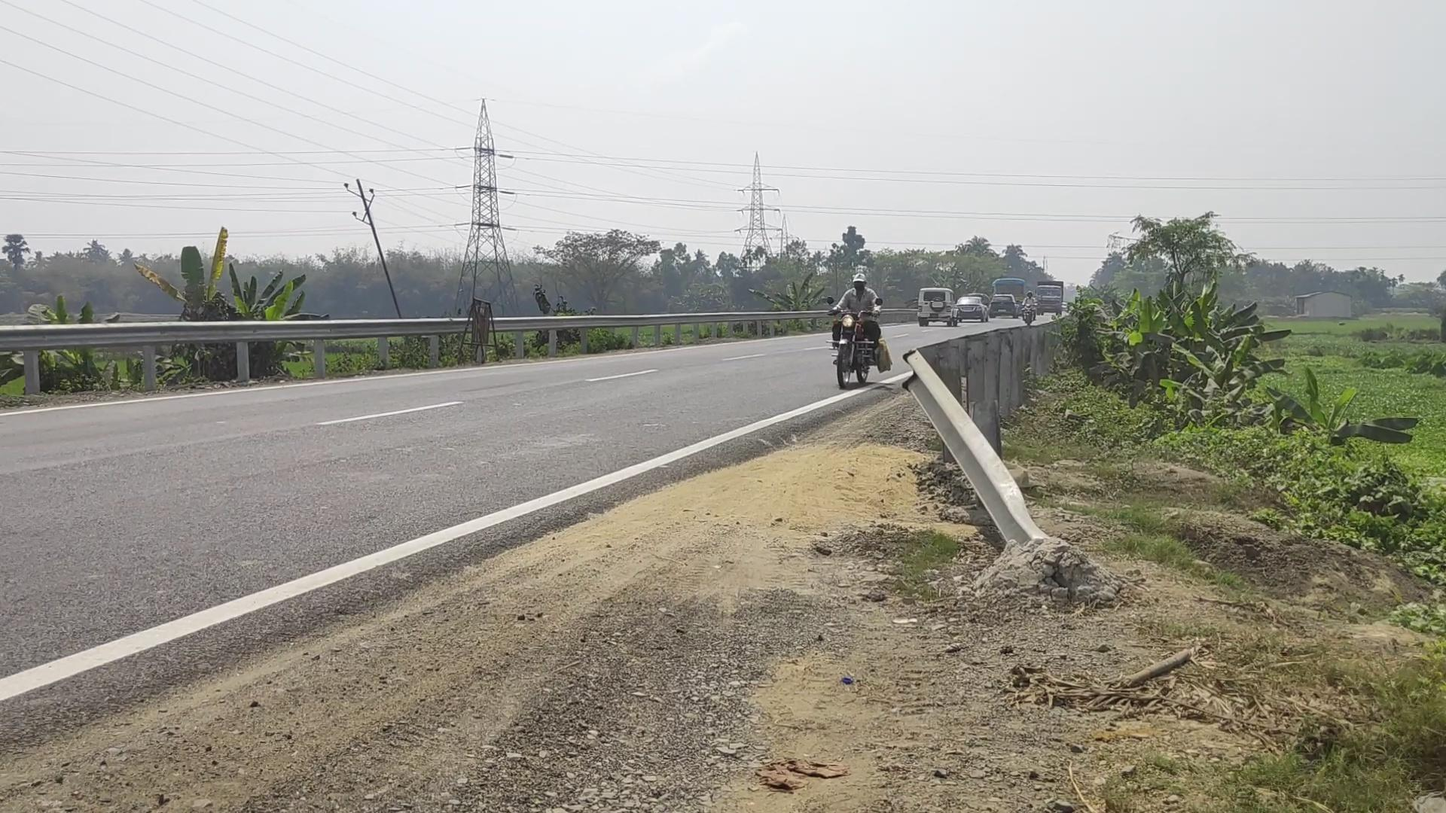Bus: (992, 278, 1025, 317)
bike: (825, 273, 892, 389), (1019, 291, 1038, 325)
car: (917, 288, 959, 327), (956, 296, 990, 323), (989, 294, 1018, 318)
truck: (1036, 280, 1064, 317)
